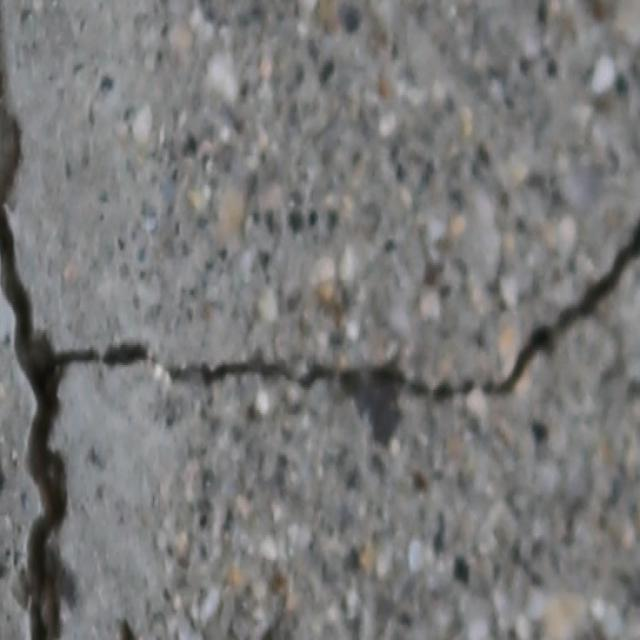crack: (81, 206, 638, 412), (0, 55, 81, 638)
